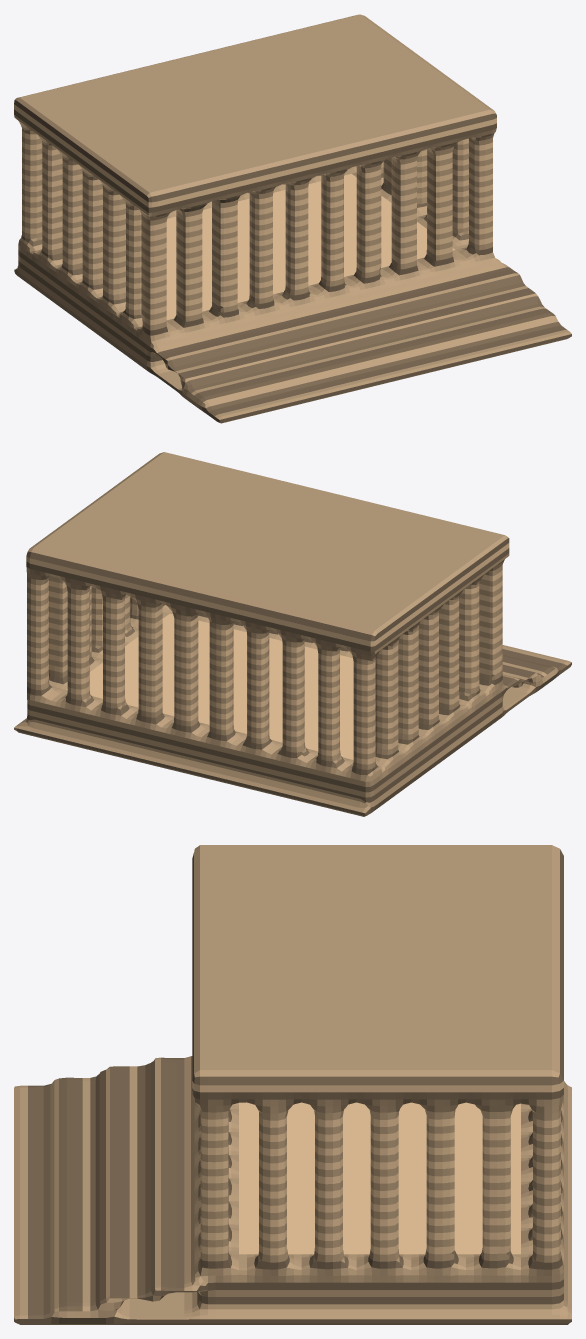
Rendered from anitkabir.fbx.
3 renders of one model, top to bottom at view 1: azimuth 30°, elevation 25°; view 2: azimuth 150°, elevation 25°; view 3: azimuth 270°, elevation 25°, orthographic. The views are drawn at different scales.
Parts seen in each view (by area): view 1: obj_0; view 2: obj_0; view 3: obj_0.
Part boxes in pixels (x1,y1,x2,y2): obj_0: (14,14,571,423); obj_0: (14,452,571,816); obj_0: (14,845,571,1324).
Size of the model in its own units: 6841 by 3338 by 6801.
